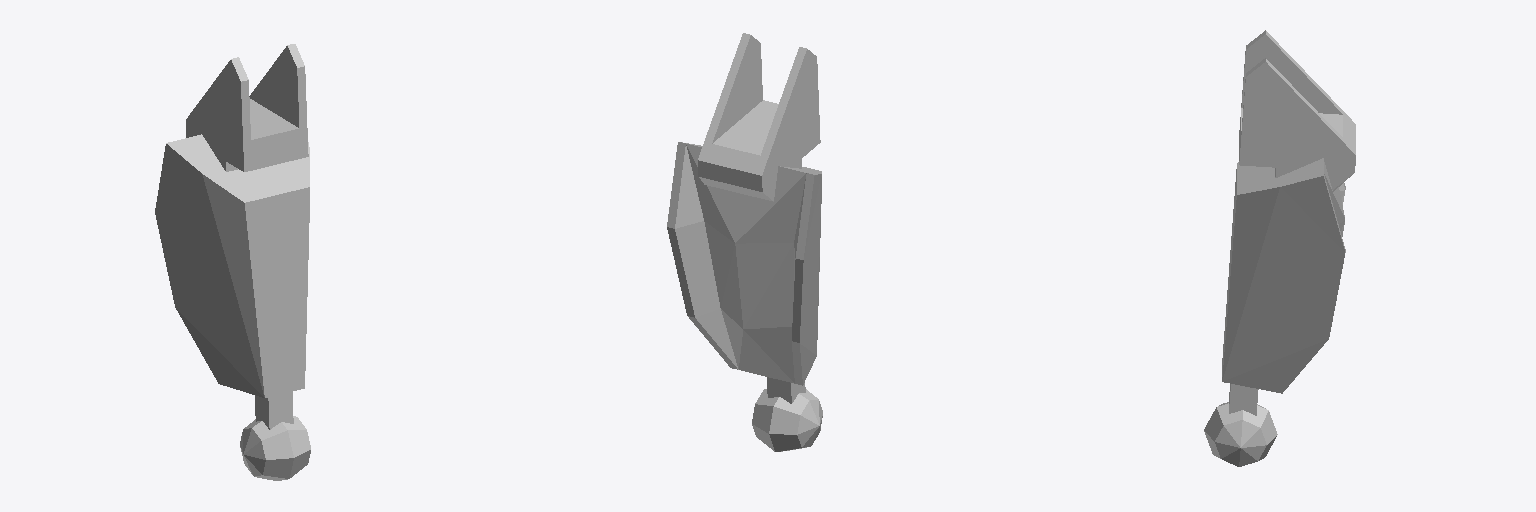
Rendered from piraka leg d.obj.
3 renders of one model, left to right at view 1: azimuth 30°, elevation 25°; view 2: azimuth 150°, elevation 25°; view 3: azimuth 270°, elevation 25°, orthographic.
Visible parts, largest first — view 1: Reidak.reidak.smd.mesh_1.006; view 2: Reidak.reidak.smd.mesh_1.006; view 3: Reidak.reidak.smd.mesh_1.006.
Boxes of the visible parts, x1,y1,x2,y2 form: Reidak.reidak.smd.mesh_1.006: [155, 44, 310, 480]; Reidak.reidak.smd.mesh_1.006: [667, 33, 822, 451]; Reidak.reidak.smd.mesh_1.006: [1204, 30, 1355, 466].
Bounding box in the file's own units: 1.99 × 5.84 × 1.92.